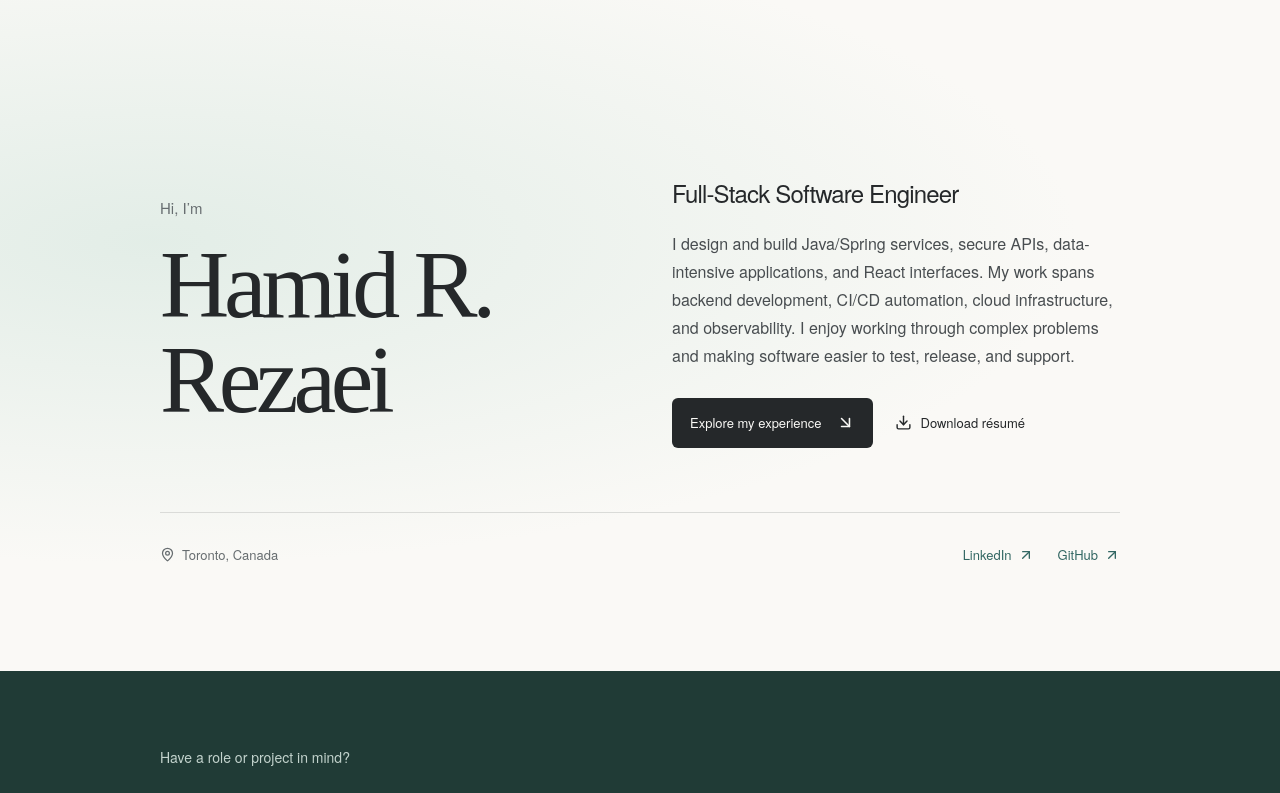
Scenario: resume downloads › offers the same two direct downloads from the hero and contact section
This screenshot has width=1280, height=793.
What coordinates should you click on to do the following:
click the button "Download résumé"
I would click on:
 (960, 423)
Its box is [894, 398, 1025, 448].
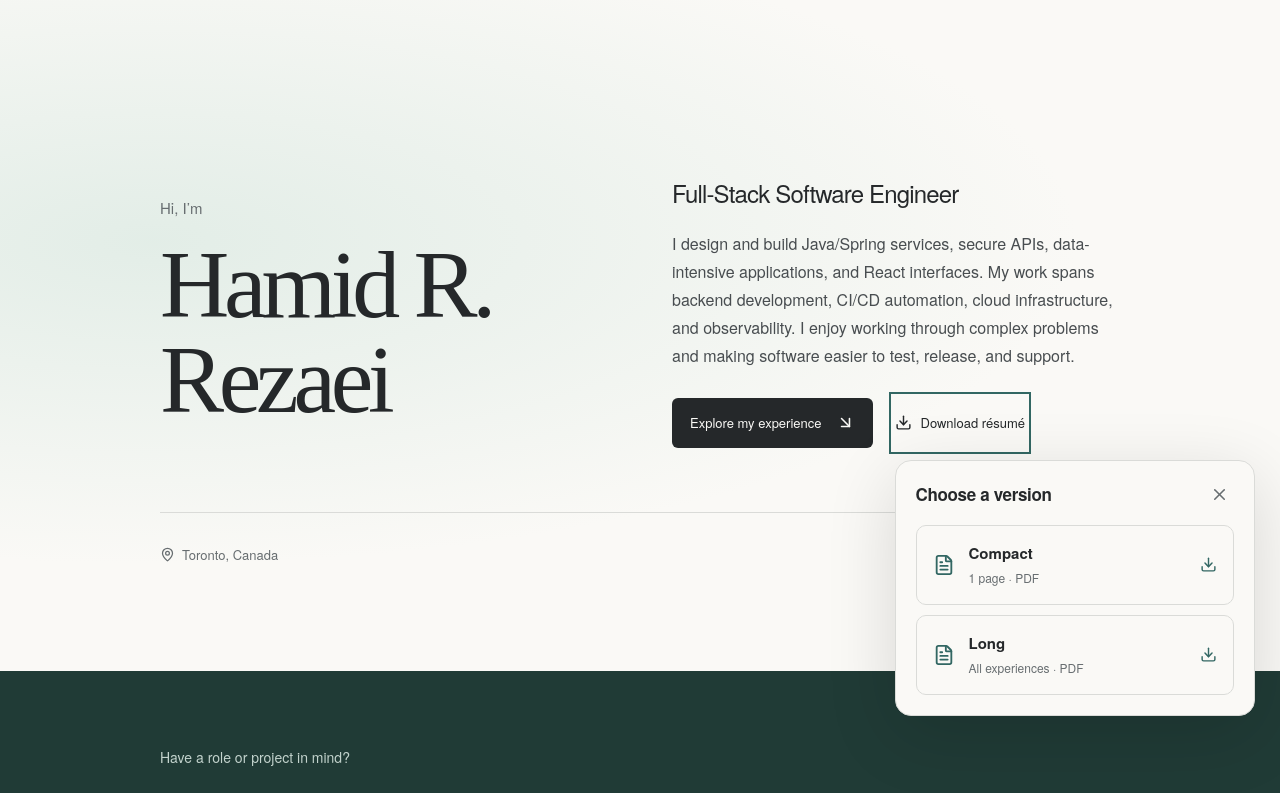
What coordinates should you click on to do the following:
click the button named "Close résumé downloads"
I would click on:
 (1220, 495)
Its box is [1198, 473, 1242, 517].
(page scrolled)
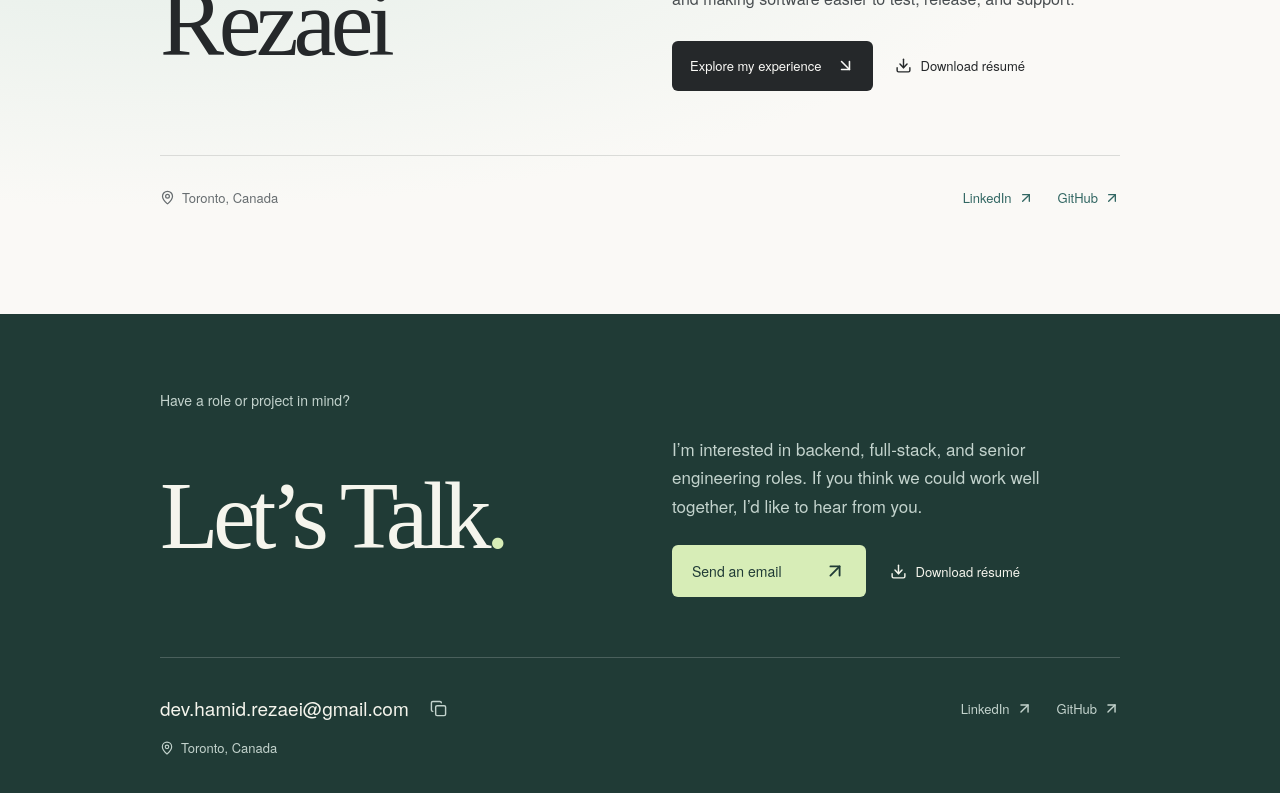
Check: the button "Download résumé" next to "Explore my experience" is collapsed, box [894, 41, 1025, 91]
Check: the dialog is gone
What coordinates should you click on to do the following:
click the button "Download résumé" next to "Send an email"
I would click on:
 (955, 571)
Its box is [890, 546, 1020, 596].
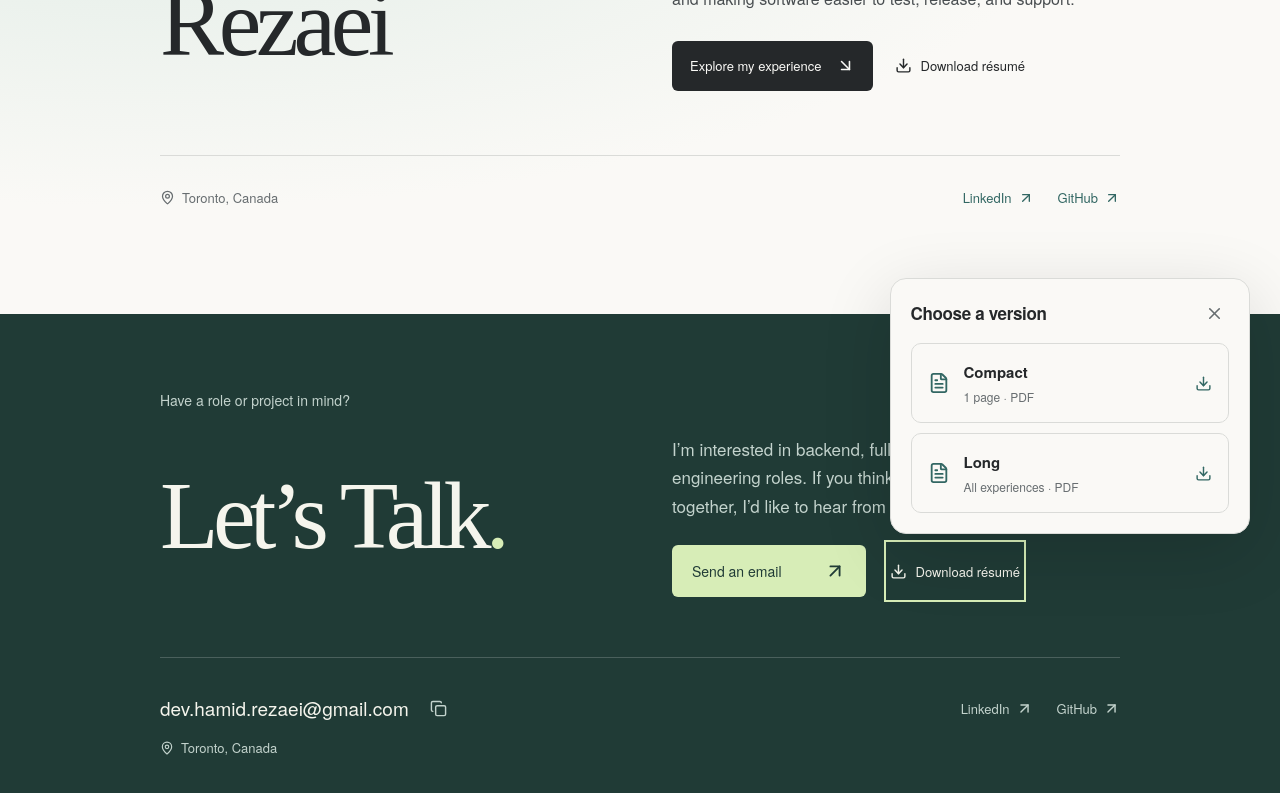
What coordinates should you click on to do the following:
click the button named "Close résumé downloads"
I would click on:
 (1214, 313)
Its box is [1192, 291, 1236, 335].
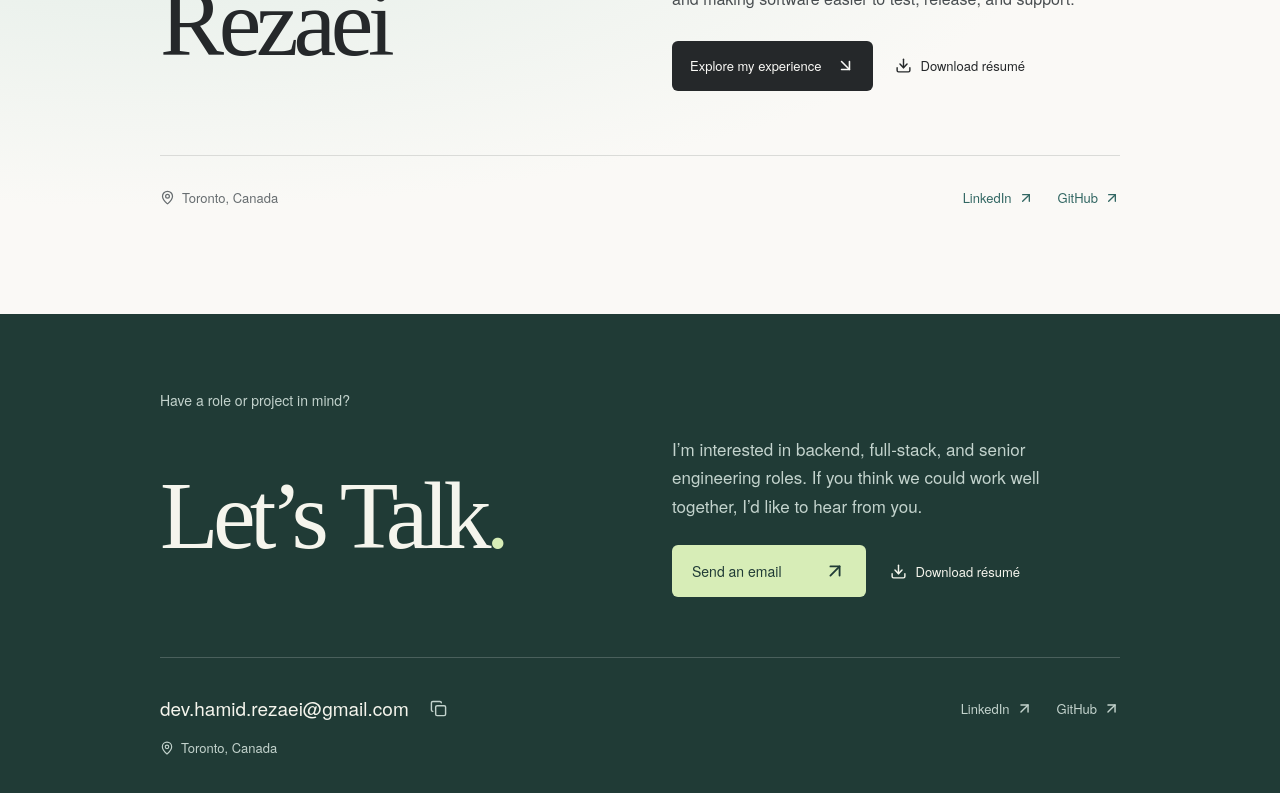
Check: the dialog is gone
